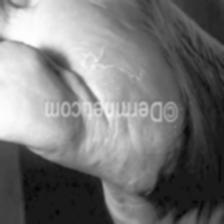Unclassified: (117, 146, 147, 184), (85, 50, 113, 82)
